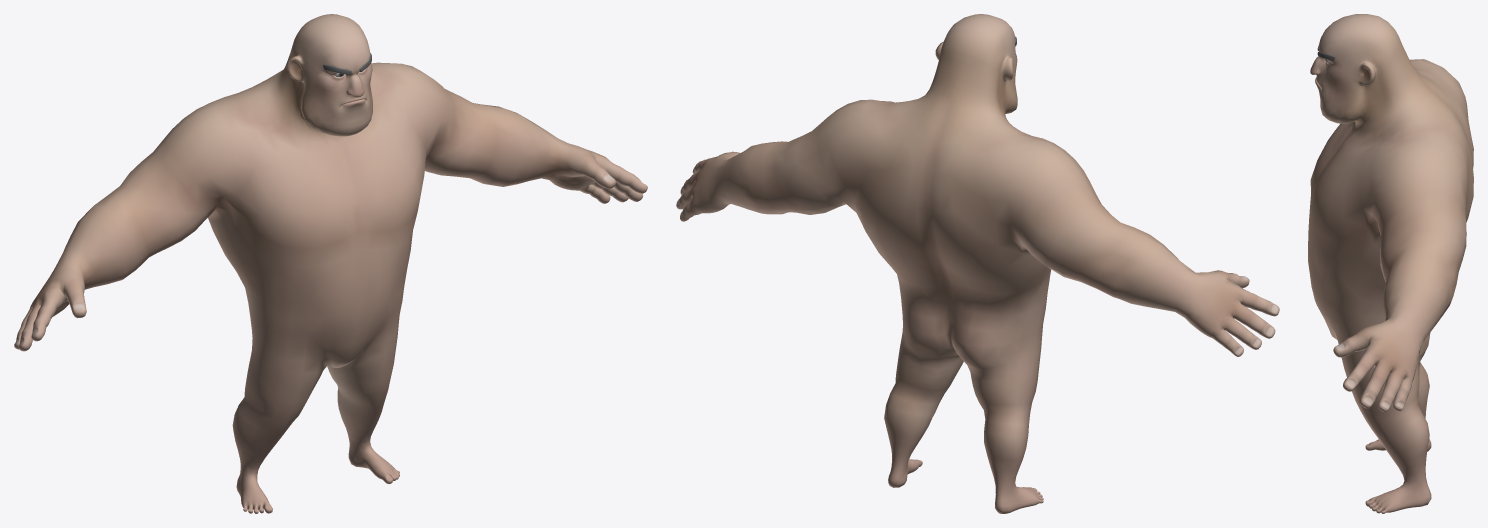
Rendered from person.glb.
The picture shows the model from 3 angles, left to right: view 1: azimuth 30°, elevation 25°; view 2: azimuth 150°, elevation 25°; view 3: azimuth 270°, elevation 25°; orthographic projection. The views are drawn at different scales.
Visible parts, largest first — view 1: Body; view 2: Body; view 3: Body.
Boxes of the visible parts, x1,y1,x2,y2 form: Body: (14,14,647,513); Body: (676,14,1279,513); Body: (1308,14,1473,513).
Bounding box in the file's own units: 4.35 × 3.22 × 1.05.
